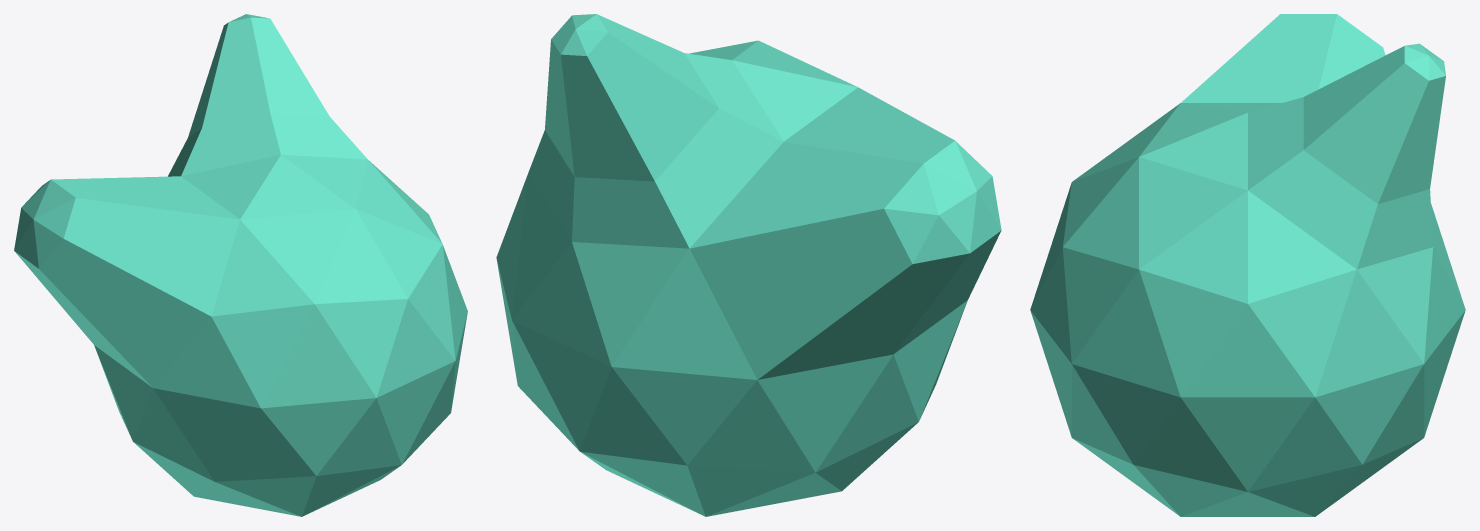
File: icerock.glb
The picture shows the model from 3 angles, left to right: view 1: azimuth 30°, elevation 25°; view 2: azimuth 150°, elevation 25°; view 3: azimuth 270°, elevation 25°; orthographic projection. The views are drawn at different scales.
Parts seen in each view (by area): view 1: Ice_Rock; view 2: Ice_Rock; view 3: Ice_Rock.
Part boxes in pixels (box(x1,y1,x2,y2)): Ice_Rock: box(14, 14, 467, 516); Ice_Rock: box(496, 14, 1001, 516); Ice_Rock: box(1030, 14, 1465, 516).
Size of the model in its own units: 2.33 by 2.45 by 2.
